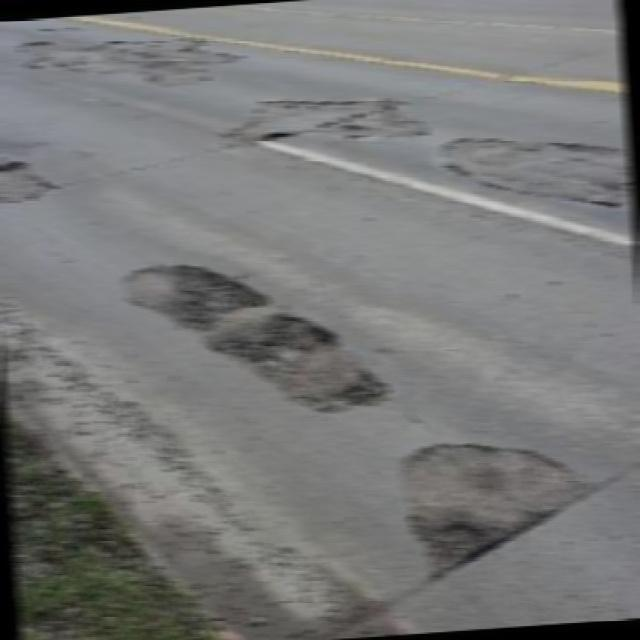Pothole: (374, 430, 604, 585), (212, 312, 404, 428), (428, 118, 640, 214), (85, 248, 271, 328), (200, 88, 428, 150), (18, 30, 246, 86), (0, 142, 64, 204)
